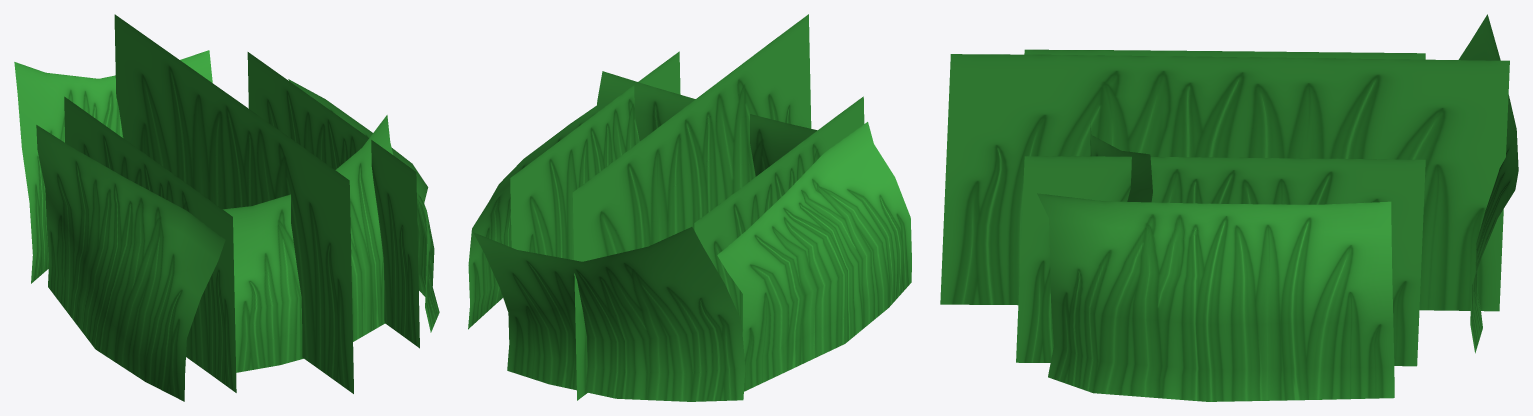
File: grass.fbx
The picture shows the model from 3 angles, left to right: view 1: azimuth 30°, elevation 25°; view 2: azimuth 150°, elevation 25°; view 3: azimuth 270°, elevation 25°; orthographic projection. The views are drawn at different scales.
Visible parts, largest first — view 1: Grass; view 2: Grass; view 3: Grass.
Part boxes in pixels (bbox=[...]): Grass: bbox=[14, 14, 439, 401]; Grass: bbox=[468, 14, 911, 401]; Grass: bbox=[940, 14, 1518, 401].
Size of the model in its own units: 1.51 by 1.01 by 2.07.
